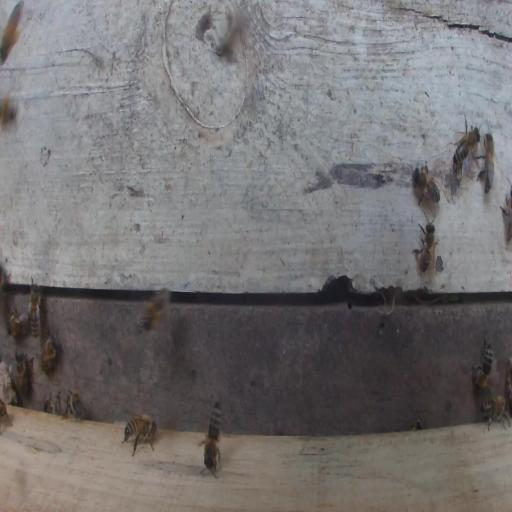nonpollenbee: (449, 113, 483, 177), (475, 131, 502, 195), (121, 412, 159, 457), (200, 405, 223, 471), (411, 220, 437, 277), (1, 2, 23, 63), (138, 287, 167, 332), (471, 334, 493, 391), (412, 162, 441, 205), (480, 394, 511, 432), (27, 278, 42, 340), (10, 350, 29, 395), (63, 388, 86, 422), (41, 329, 58, 374), (500, 187, 512, 244), (8, 310, 29, 339), (1, 94, 17, 127), (43, 392, 61, 415), (201, 472, 203, 473)
